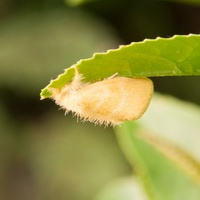insect: (41, 66, 152, 125)
